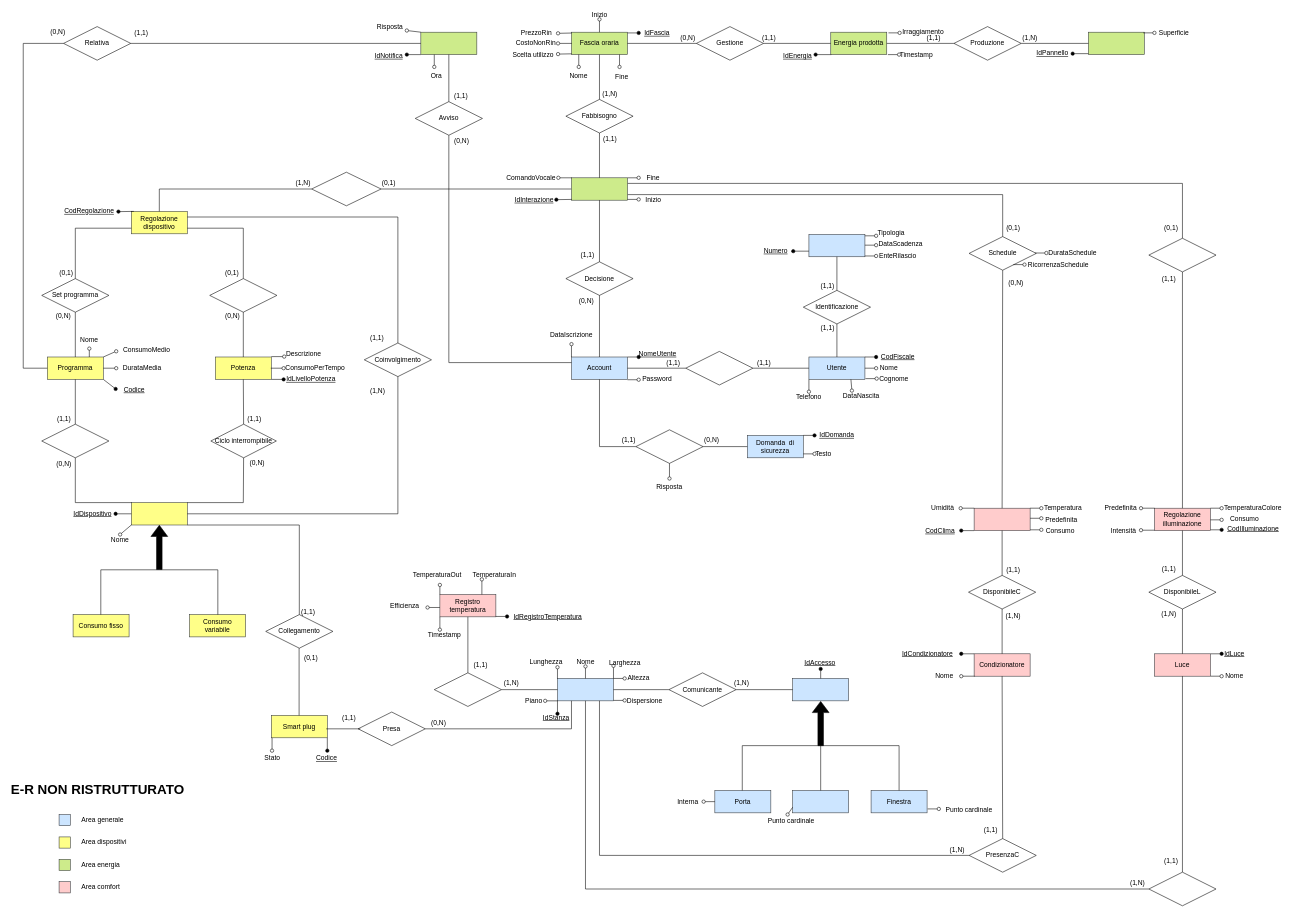
The diagram is 1292 pixels wide and 916 high, and some of its shapes have lost their labels. The shapes that lost their labels are listed below. From the top down, each one's box as (x1, y1, x2, y2) in pixels, then its label:
(420, 32, 477, 55): Notifica
(1088, 32, 1144, 55): Pannello
(311, 172, 381, 206): UtilizzoD
(571, 177, 627, 200): Interazione
(808, 234, 865, 257): Documento
(1148, 238, 1216, 272): UtilizzoL
(209, 278, 277, 312): Set potenza
(685, 351, 753, 385): Registrazione
(41, 424, 109, 458): Ciclo non interrompibile
(635, 429, 703, 463): Sicurezza
(131, 502, 187, 525): Dispositivo
(974, 508, 1030, 531): Regolazione clima
(434, 672, 501, 706): Monitoraggio
(557, 678, 613, 701): Stanza
(792, 678, 849, 701): Punto di accesso
(792, 790, 849, 813): Portafinestra
(1148, 872, 1216, 906): PresenzaL
